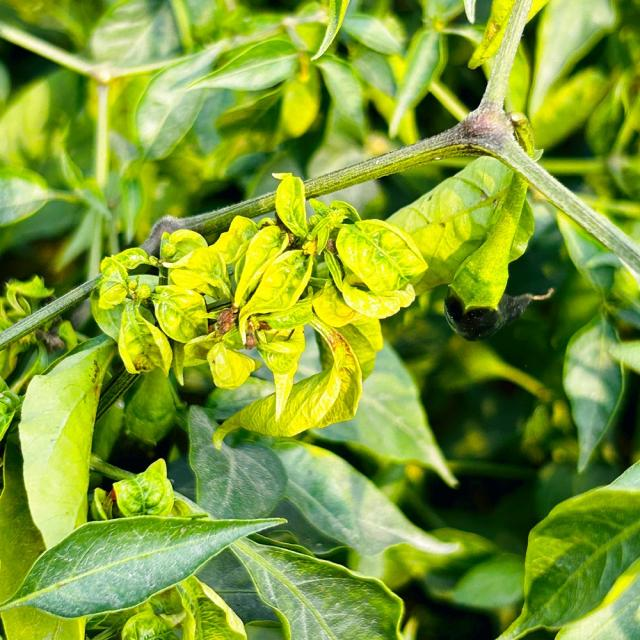Chilli_Leaf_Curl: (1, 1, 638, 638), (94, 170, 429, 450), (1, 512, 288, 620), (382, 149, 538, 336), (494, 459, 639, 638), (333, 216, 429, 296)
